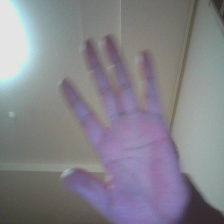hand: (56, 28, 190, 223)
